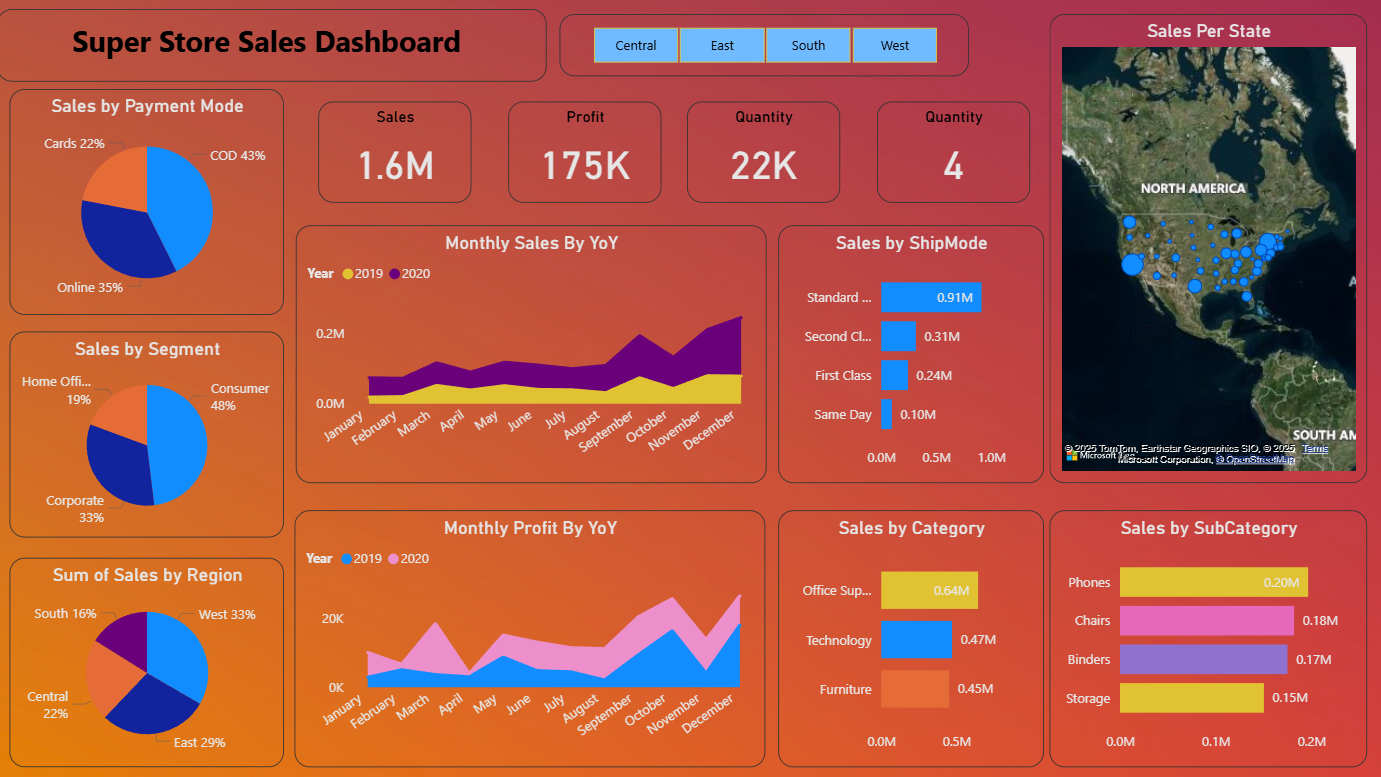

What the dashboard file says about the page in this screenshot:
{"tool":"powerbi","page":{"name":"Page 1","canvas":[1280,720],"ordinal":0},"visuals":[{"type":"clusteredBarChart","title":"Sales by Category","fields":{"Category":["SuperStore_Sales_Dataset.Category"],"Y":["Sum(SuperStore_Sales_Dataset.Sales)"]},"box":[721.8,472,245.6,237.4],"z":0},{"type":"clusteredBarChart","title":"Sales by SubCategory","fields":{"Category":["SuperStore_Sales_Dataset.Sub-Category"],"Y":["Sum(SuperStore_Sales_Dataset.Sales)"]},"box":[972.9,472,293.7,237.4],"z":1000},{"type":"clusteredBarChart","title":"Sales by ShipMode","fields":{"Category":["SuperStore_Sales_Dataset.Ship Mode"],"Y":["Sum(SuperStore_Sales_Dataset.Sales)"]},"box":[721.8,208.6,245.6,238.8],"z":2000},{"type":"stackedAreaChart","title":"Monthly Sales By YoY","fields":{"Category":["SuperStore_Sales_Dataset.Order Date.Variation.Date Hierarchy.Month","SuperStore_Sales_Dataset.Order Date.Variation.Date Hierarchy.Day"],"Y":["Sum(SuperStore_Sales_Dataset.Sales)"],"Series":["SuperStore_Sales_Dataset.Order Date.Variation.Date Hierarchy.Year"]},"box":[275.8,208.6,435,238.8],"z":3000},{"type":"stackedAreaChart","title":"Monthly Profit By YoY","fields":{"Category":["SuperStore_Sales_Dataset.Order Date.Variation.Date Hierarchy.Month","SuperStore_Sales_Dataset.Order Date.Variation.Date Hierarchy.Day"],"Series":["SuperStore_Sales_Dataset.Order Date.Variation.Date Hierarchy.Year"],"Y":["Sum(SuperStore_Sales_Dataset.Profit)"]},"box":[274.4,472,435,237.4],"z":4000},{"type":"map","title":"Sales Per State","fields":{"Category":["SuperStore_Sales_Dataset.State"],"Size":["Sum(SuperStore_Sales_Dataset.Sales)"]},"box":[972.9,13.7,293.7,433.6],"z":5000},{"type":"pieChart","title":" Sales by Segment","fields":{"Category":["SuperStore_Sales_Dataset.Segment"],"Y":["Sum(SuperStore_Sales_Dataset.Sales)"]},"box":[11,307.4,253.9,190.7],"z":6000},{"type":"pieChart","fields":{"Category":["SuperStore_Sales_Dataset.Region"],"Y":["Sum(SuperStore_Sales_Dataset.Sales)"]},"box":[11,516,253.9,193.5],"z":7000},{"type":"pieChart","title":"Sales by Payment Mode","fields":{"Category":["SuperStore_Sales_Dataset.Payment Mode"],"Y":["Sum(SuperStore_Sales_Dataset.Sales)"]},"box":[11,83.7,253.9,208.6],"z":8000},{"type":"slicer","fields":{"Values":["SuperStore_Sales_Dataset.Region"]},"box":[520.1,13.7,378.7,57.6],"z":9000},{"type":"textbox","box":[0,9.6,507.7,67.2],"z":10000},{"type":"card","title":"Sales","fields":{"Values":["Sum(SuperStore_Sales_Dataset.Sales)"]},"box":[296.4,94.7,141.3,93.3],"z":11000},{"type":"card","title":"Profit","fields":{"Values":["Sum(SuperStore_Sales_Dataset.Profit)"]},"box":[472,94.7,141.3,93.3],"z":12000},{"type":"card","title":"Quantity","fields":{"Values":["Sum(SuperStore_Sales_Dataset.Quantity)"]},"box":[638.1,94.7,141.3,93.3],"z":13000},{"type":"card","title":"Quantity","fields":{"Values":["Avg(SuperStore_Sales_Dataset.AvgDelivery)"]},"box":[813.7,94.7,141.3,93.3],"z":14000}]}

Visuals, with their boxes in screenshot pixels (x1, y1, x2, y2), scaled from the page's 1280x720 canvas onto the 1381x777 screenshot:
"Sales by Category" clusteredBarChart: l=779, t=509, r=1044, b=766
"Sales by SubCategory" clusteredBarChart: l=1050, t=509, r=1367, b=766
"Sales by ShipMode" clusteredBarChart: l=779, t=225, r=1044, b=483
"Monthly Sales By YoY" stackedAreaChart: l=298, t=225, r=767, b=483
"Monthly Profit By YoY" stackedAreaChart: l=296, t=509, r=765, b=766
"Sales Per State" map: l=1050, t=15, r=1367, b=483
" Sales by Segment" pieChart: l=12, t=332, r=286, b=538
pieChart - SuperStore_Sales_Dataset.Region x Sum(SuperStore_Sales_Dataset.Sales): l=12, t=557, r=286, b=766
"Sales by Payment Mode" pieChart: l=12, t=90, r=286, b=315
slicer - SuperStore_Sales_Dataset.Region: l=561, t=15, r=970, b=77
textbox: l=0, t=10, r=548, b=83
"Sales" card: l=320, t=102, r=472, b=203
"Profit" card: l=509, t=102, r=662, b=203
"Quantity" card: l=688, t=102, r=841, b=203
"Quantity" card: l=878, t=102, r=1030, b=203
